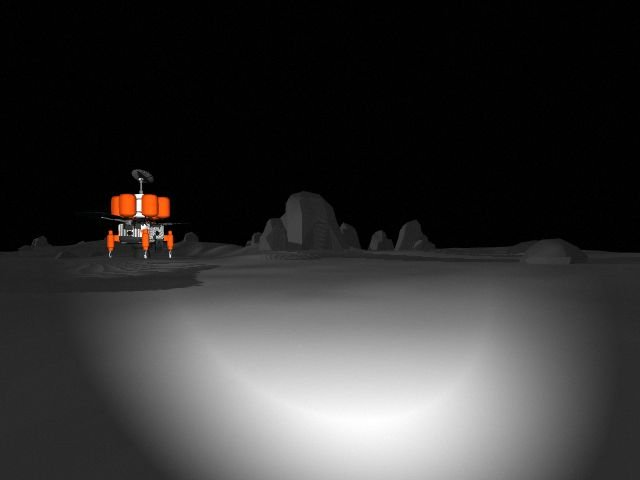homebase: (73, 166, 191, 261)
